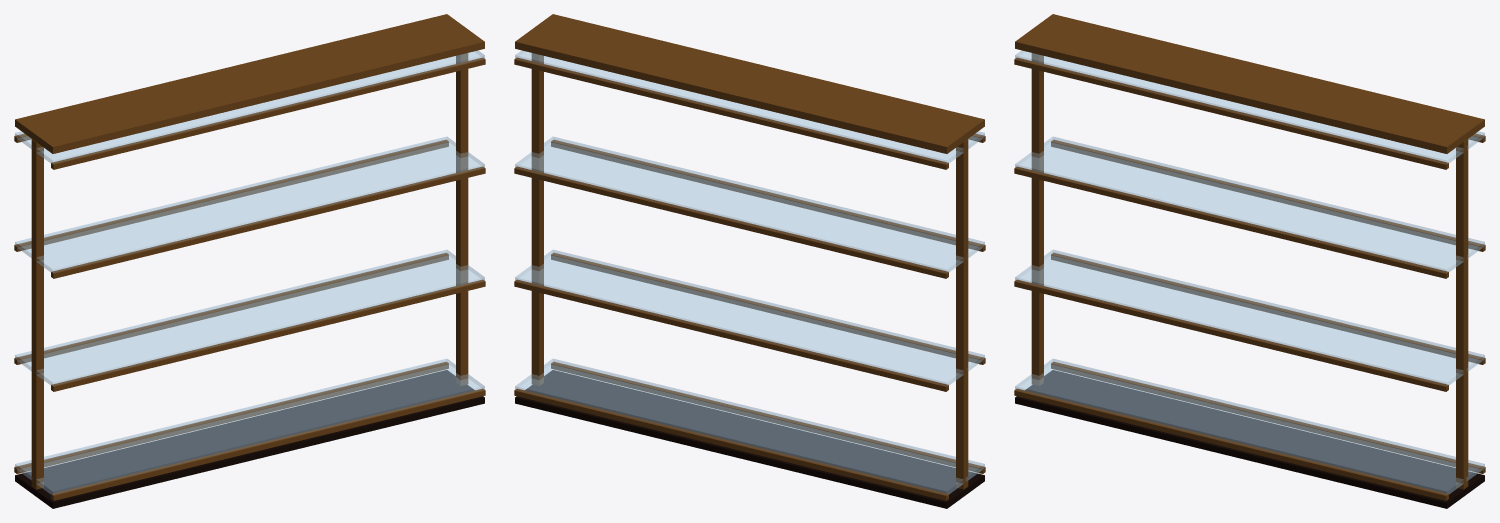
File: glass_shelf.glb
3 renders of one model, left to right at view 1: azimuth 30°, elevation 25°; view 2: azimuth 150°, elevation 25°; view 3: azimuth 330°, elevation 25°, orthographic.
Parts seen in each view (by area): view 1: glass_shelf; view 2: glass_shelf; view 3: glass_shelf.
Part boxes in pixels (left/top/right/bottom): glass_shelf: left=14, top=14, right=485, bottom=508; glass_shelf: left=514, top=14, right=985, bottom=508; glass_shelf: left=1014, top=14, right=1485, bottom=508.
Bounding box in the file's own units: 2.24 × 1.79 × 0.3549.
